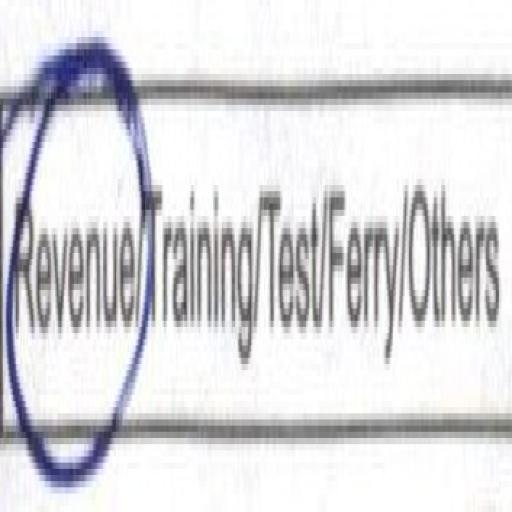check: (0, 24, 143, 512)
